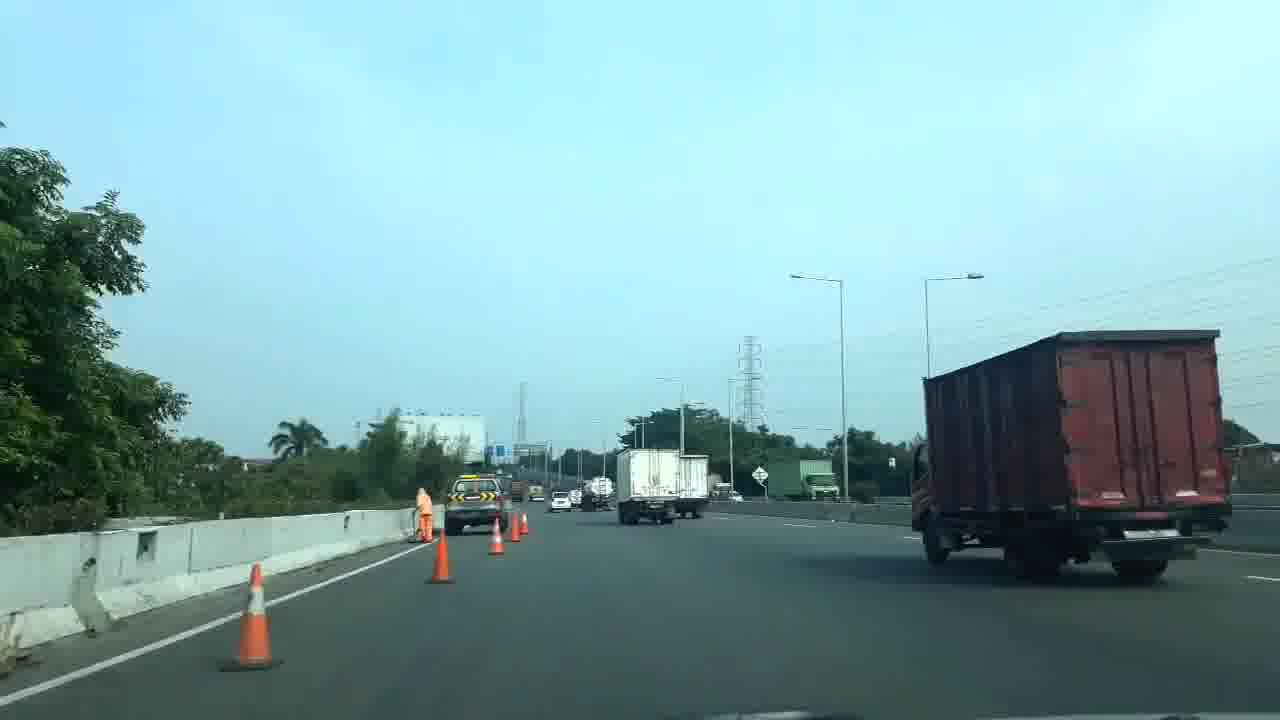plate_positive: (1121, 525, 1184, 539)
